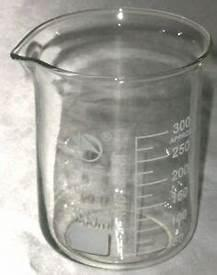Beaker: (8, 14, 209, 267)
